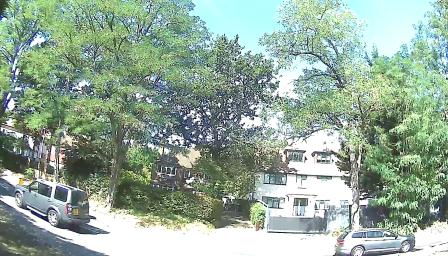Cars: (18, 178, 89, 228), (334, 225, 420, 256)
